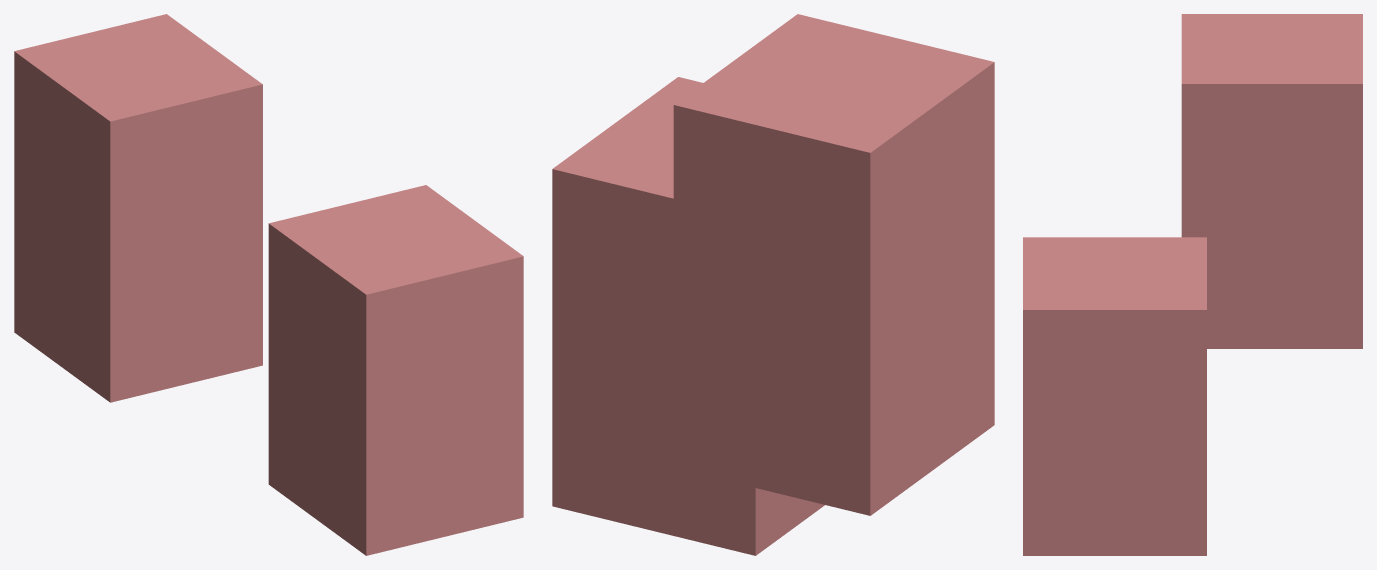
Rendered from 199518_occ.glb.
3 renders of one model, left to right at view 1: azimuth 30°, elevation 25°; view 2: azimuth 150°, elevation 25°; view 3: azimuth 270°, elevation 25°, orthographic. The views are drawn at different scales.
Visible parts, largest first — view 1: world; view 2: world; view 3: world.
Boxes of the visible parts, x1,y1,x2,y2 form: world: (14, 14, 523, 555); world: (552, 14, 994, 555); world: (1023, 14, 1362, 555).
Bounding box in the file's own units: 5.51 × 6.63 × 5.23.
